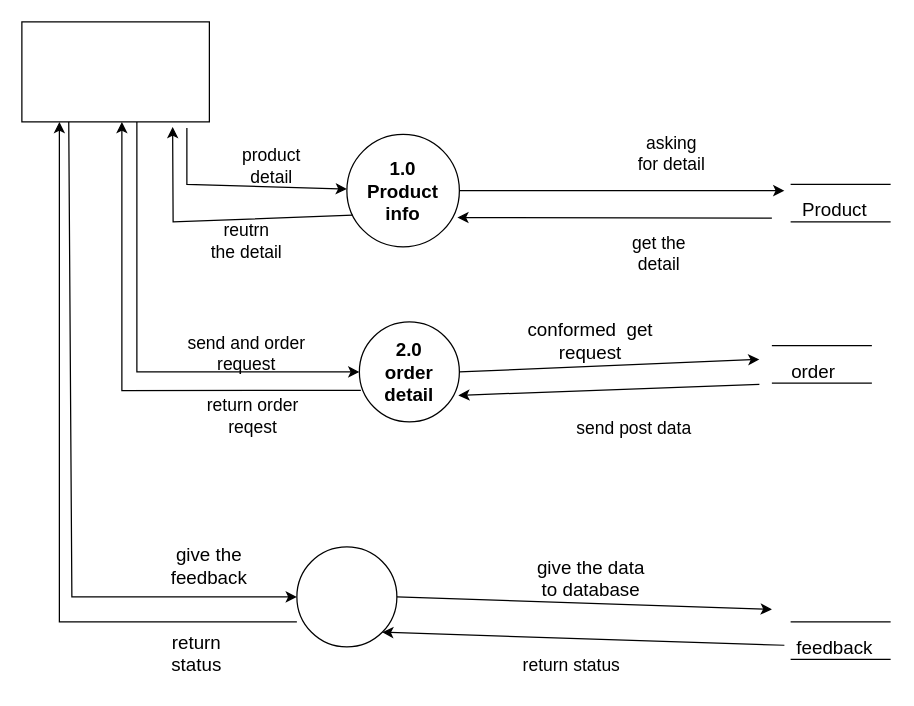
This 914x706 diagram has some shape labels left out. Each missing label, with the centre of its shape:
3.0 feedback: the point at 346,596
User: the point at 115,71
